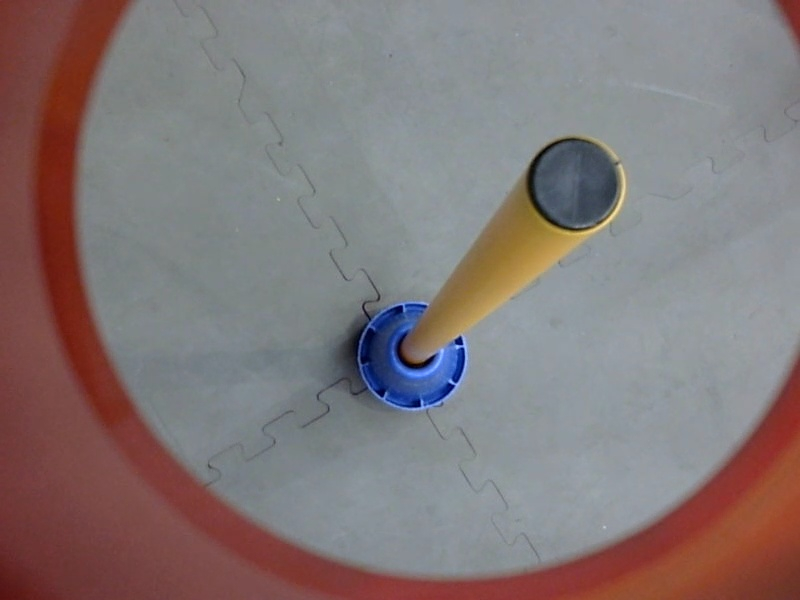tip: (520, 129, 633, 242)
